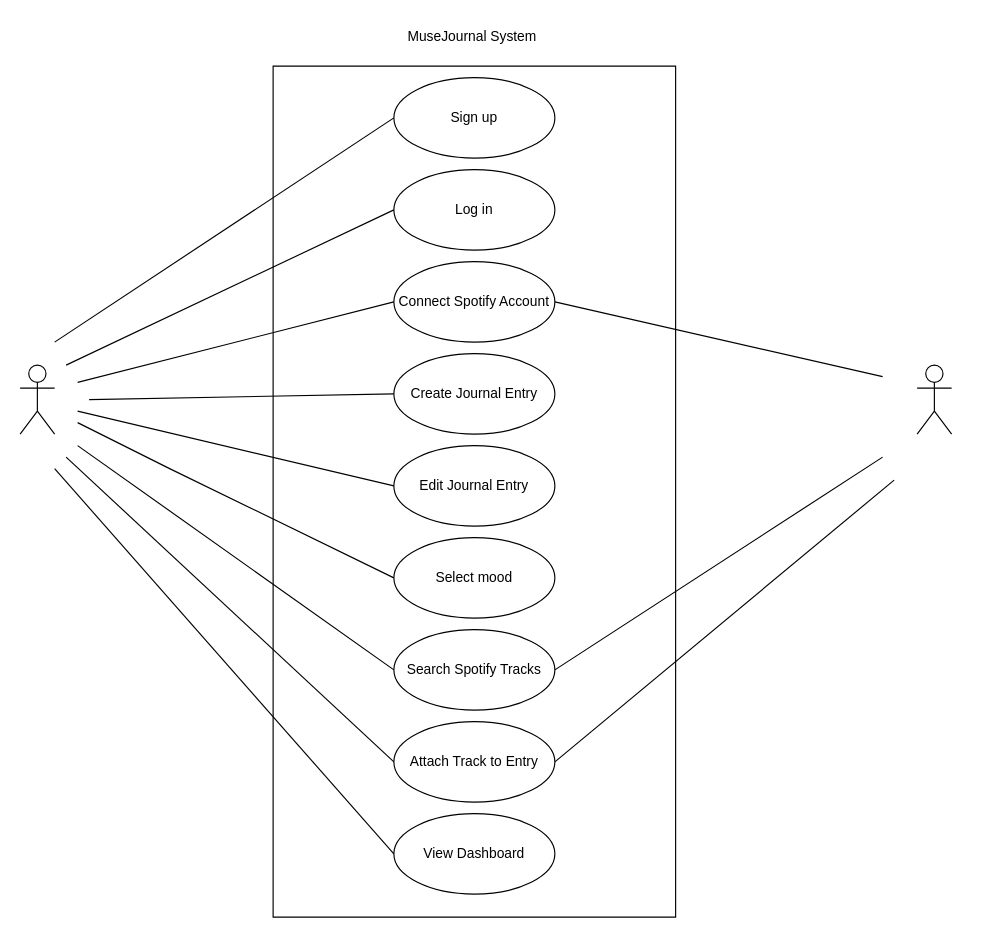
Image size: 988x937. Some labels were removed from this diagram. The centre of each missing label's shape, as x and y in pixels:
Spotify API: point (934, 399)
User: point (37, 399)
